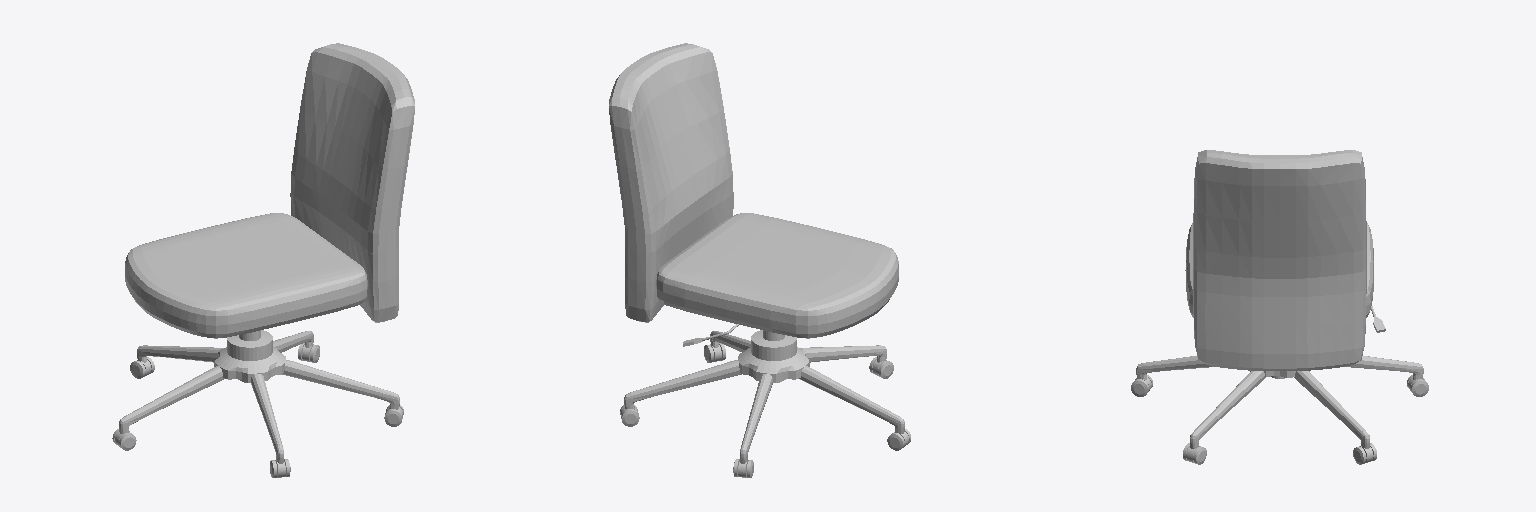
The model's file is Office Chair.obj.
The picture shows the model from 3 angles: view 1: azimuth 30°, elevation 25°; view 2: azimuth 150°, elevation 25°; view 3: azimuth 270°, elevation 25°; orthographic projection.
Visible parts, largest first — view 1: Cube.069, Chair, Cylinder.002; view 2: Cube.069, Chair, Cylinder.002; view 3: Cube.069, Cylinder.002, Chair.
Boxes of the visible parts, <box> form: Cube.069: <box>290,43,414,322</box>; Chair: <box>125,213,367,338</box>; Cylinder.002: <box>112,330,403,477</box>; Cube.069: <box>609,43,733,322</box>; Chair: <box>656,213,898,338</box>; Cylinder.002: <box>620,330,910,477</box>; Cube.069: <box>1193,150,1366,370</box>; Cylinder.002: <box>1131,356,1428,464</box>; Chair: <box>1185,223,1373,317</box>.
Size of the model in its own units: 2.54 by 2.78 by 2.35.